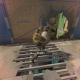Character: (30, 25, 51, 64), (44, 67, 50, 71)
Head: (44, 25, 49, 31), (47, 67, 49, 70)
